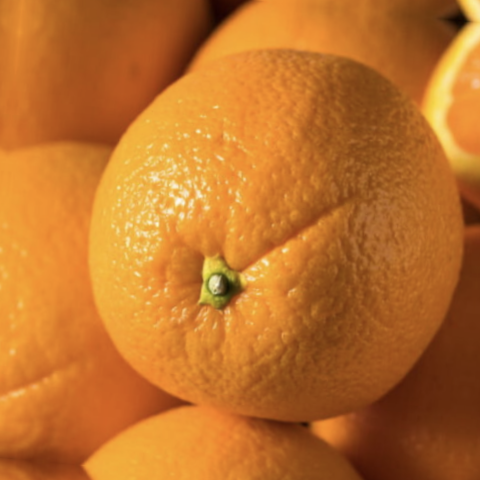orange: (26, 0, 480, 458)
